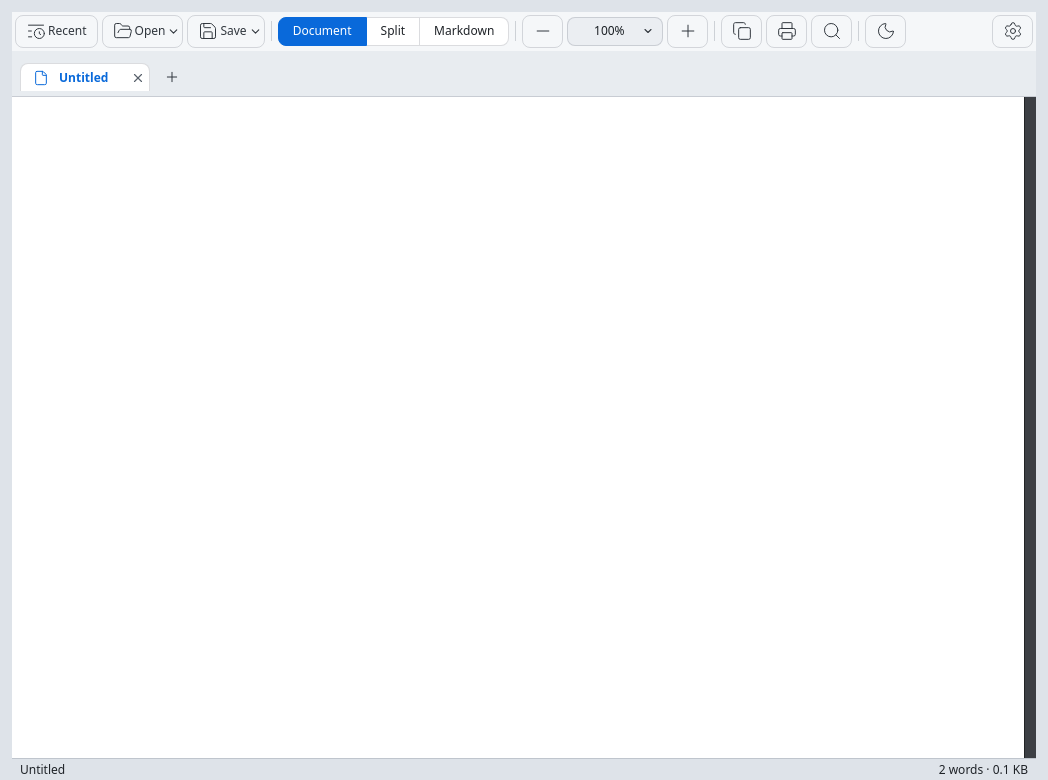
Scenario: App shell › closes a toolbar menu on Tab and moves on from its button
This screenshot has width=1048, height=780.
Click the button named "Copy" at (742, 31), box [721,14,762,48]
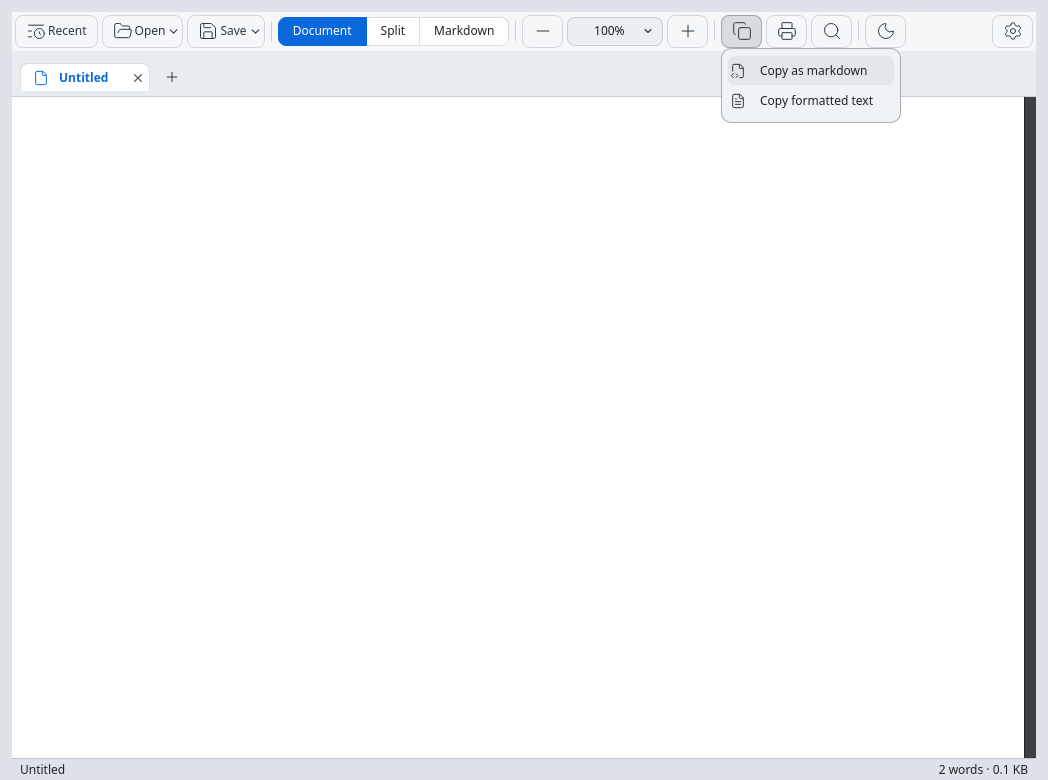
Press Tab
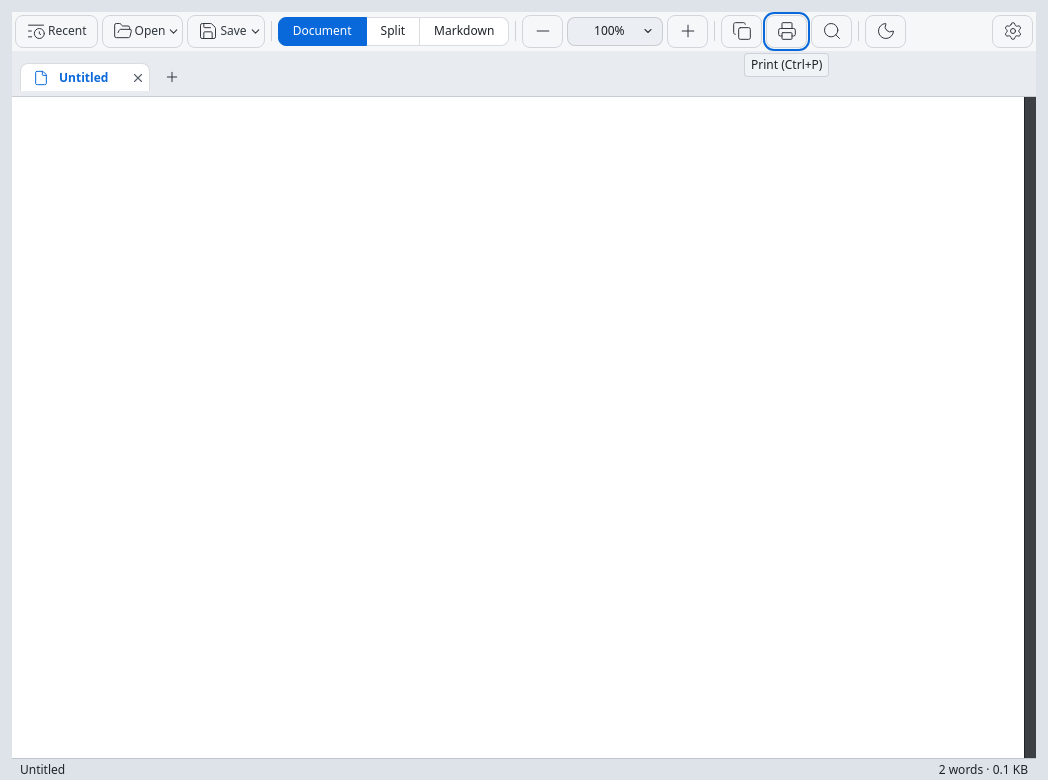
Now the menu is gone
Click the button named "Save options" at (255, 31), box [247,16,264,46]
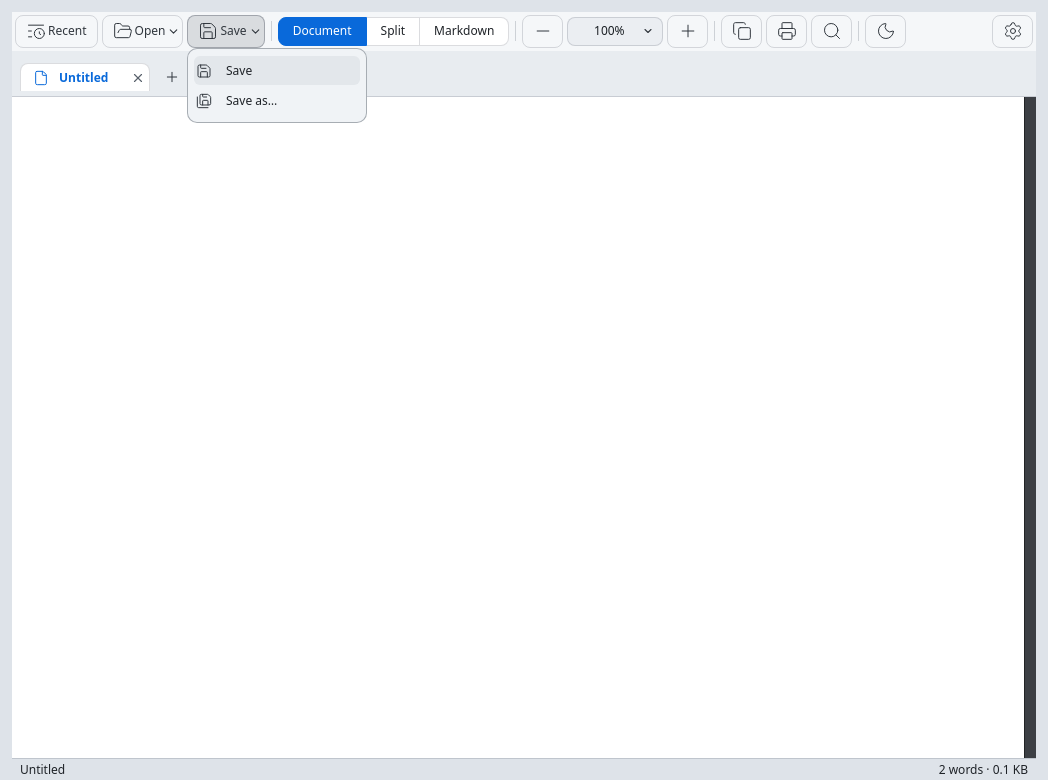
Press Shift+Tab
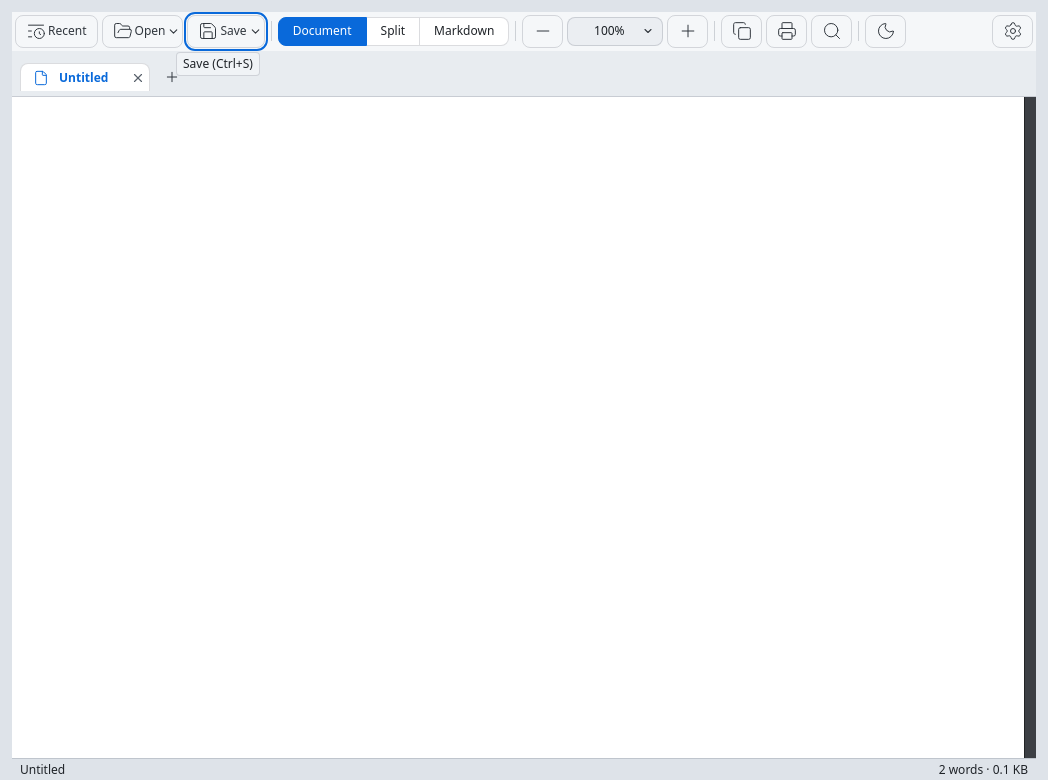
Expected: the button "Save" is shown, [188,16,247,46]
Now the menu is gone
